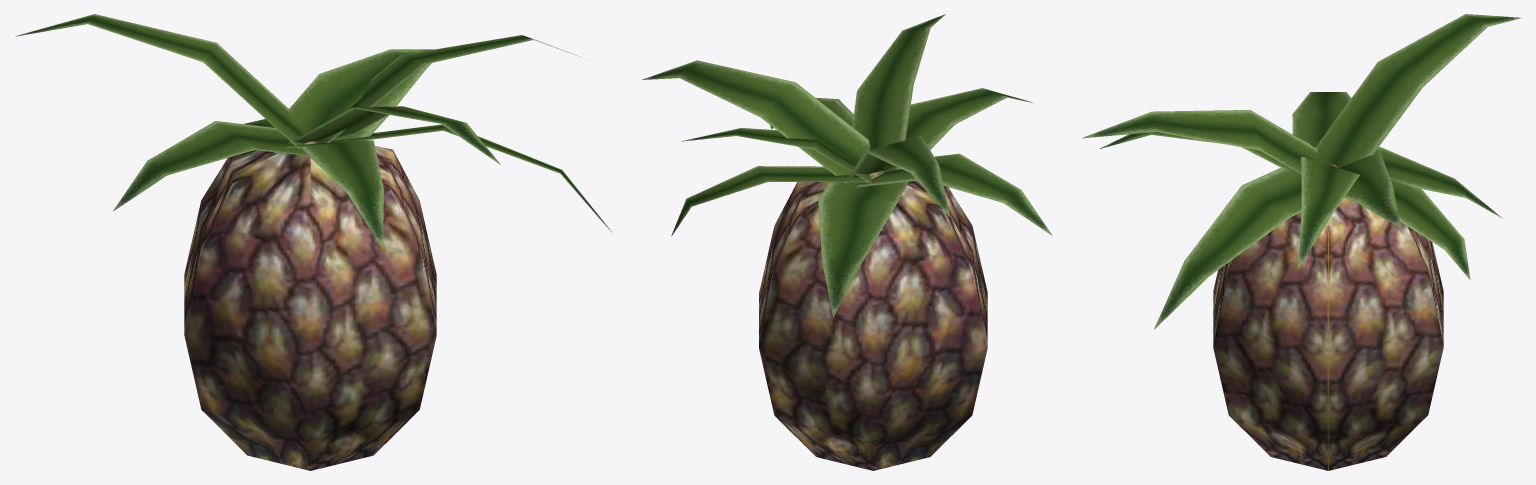
File: io_food_pine_big.obj
3 views of the same model, side by side, from view 1: azimuth 30°, elevation 25°; view 2: azimuth 150°, elevation 25°; view 3: azimuth 270°, elevation 25° (orthographic). The views are drawn at different scales.
Visible parts, largest first — view 1: io_food_pine_big_0_io_food_pine_big_itemsShape; view 2: io_food_pine_big_0_io_food_pine_big_itemsShape; view 3: io_food_pine_big_0_io_food_pine_big_itemsShape.
Boxes of the visible parts, x1=… form: io_food_pine_big_0_io_food_pine_big_itemsShape: x1=15, y1=14, x2=612, y2=470; io_food_pine_big_0_io_food_pine_big_itemsShape: x1=642, y1=14, x2=1052, y2=470; io_food_pine_big_0_io_food_pine_big_itemsShape: x1=1082, y1=14, x2=1520, y2=470.
Bounding box in the file's own units: 1.2 × 0.9789 × 1.07.
Materials: 1 (1 with a texture image).
